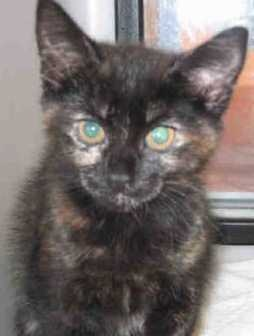Cat: (15, 0, 248, 303)
